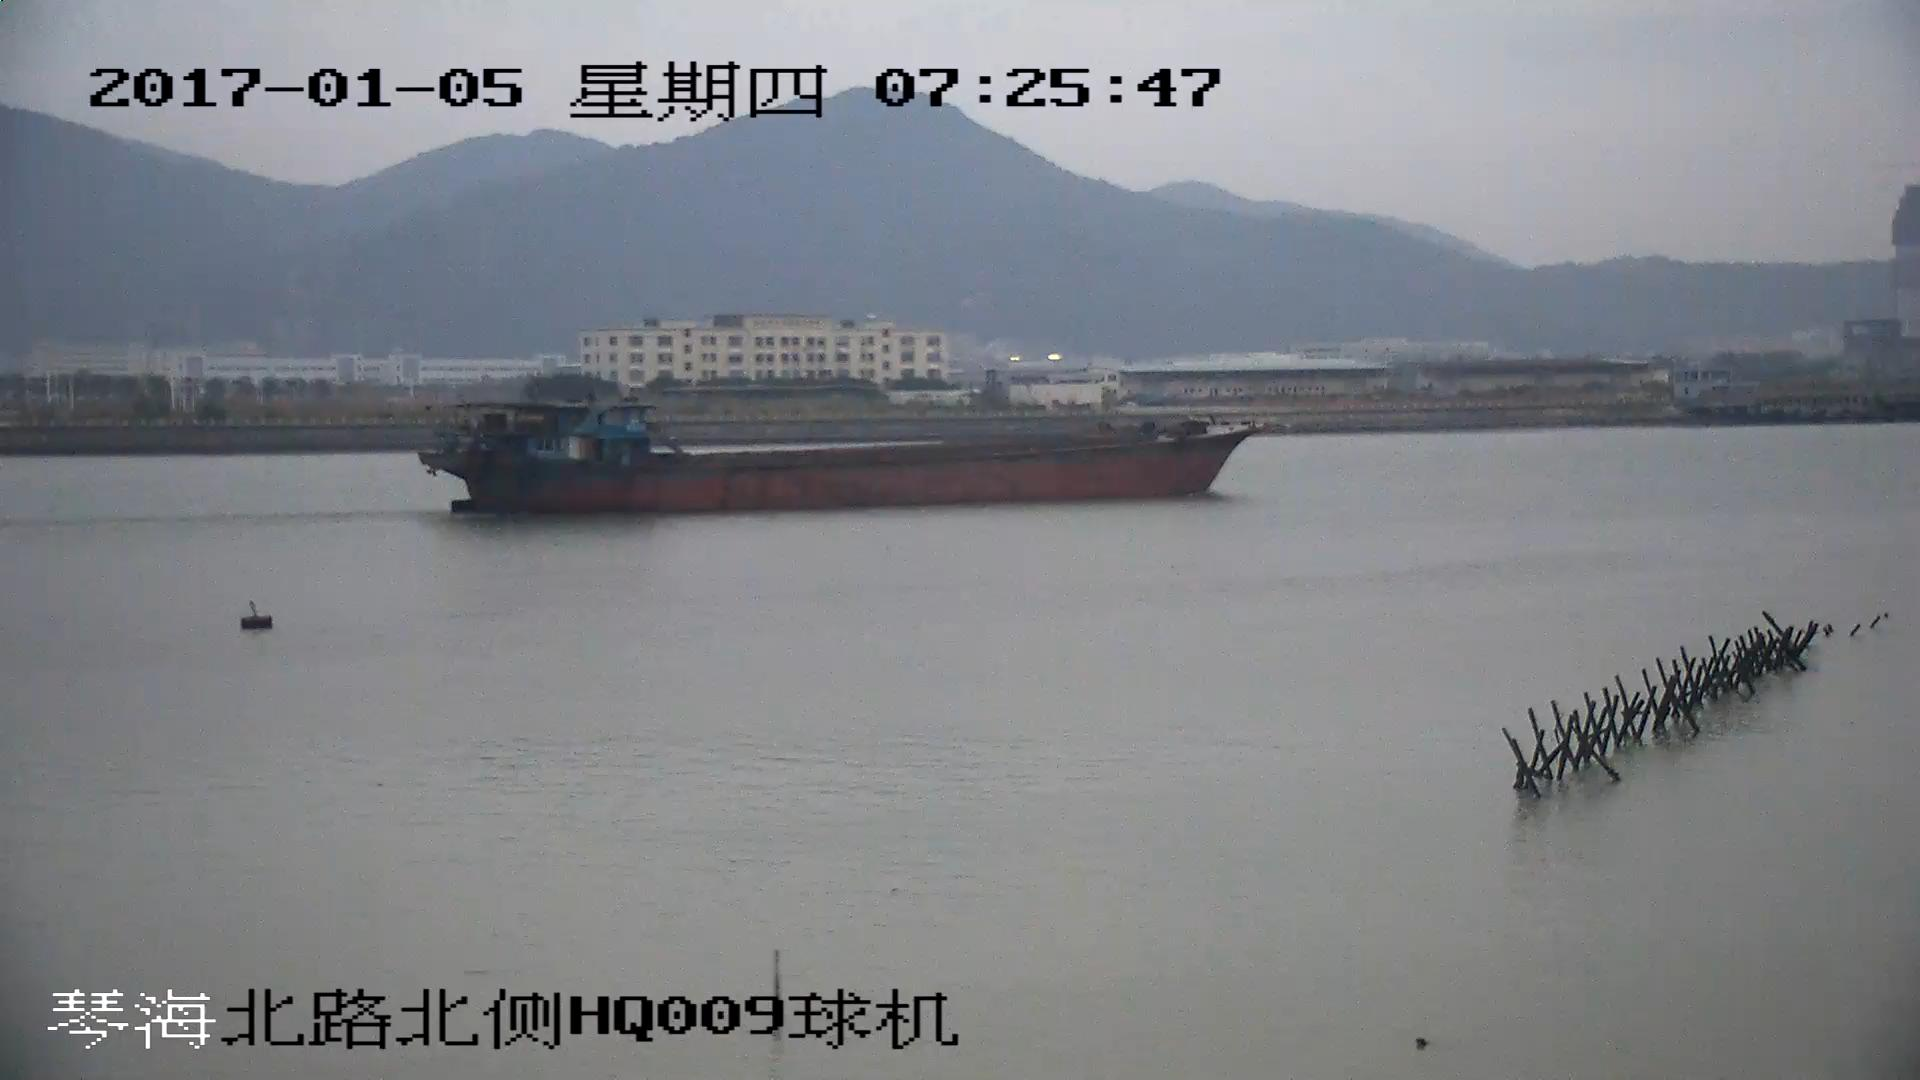bulk cargo carrier: (414, 397, 1265, 519)
